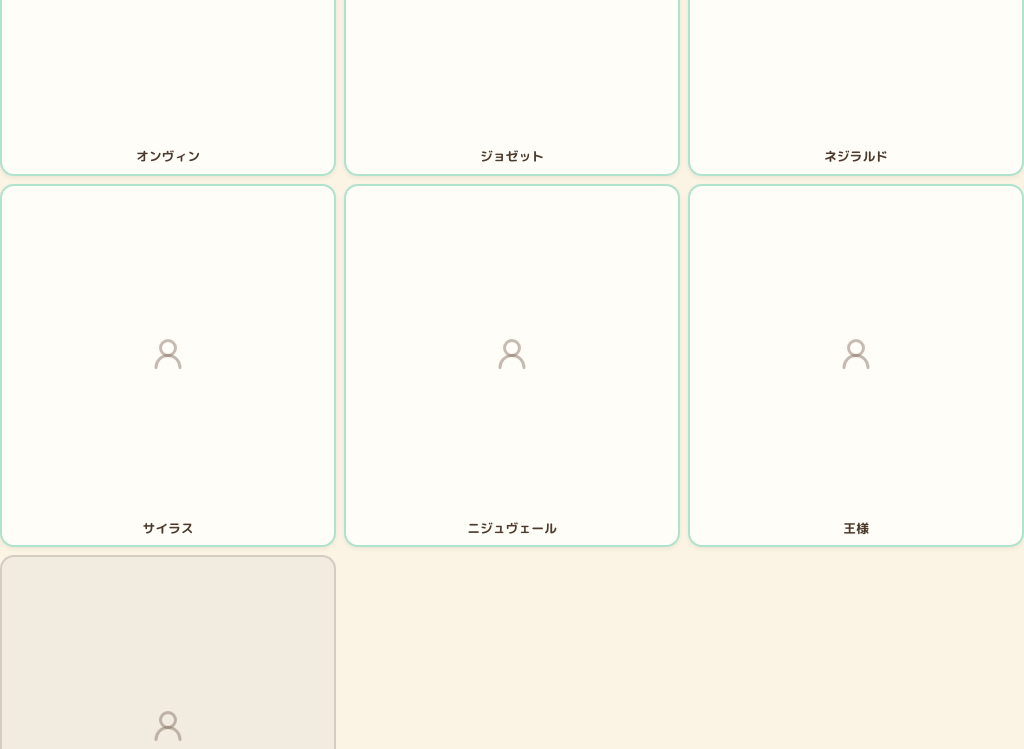
it: なかまの ずかん: 画面 › ひとくちが空のキャラクター(王様)は、「ことばの ひとくち」の欄を出さない
The image size is (1024, 749).
(page scrolled)
Click the button with class "nakama-card" showing "王様" at (856,366), box top-left (688, 184), bottom-right (1023, 548)
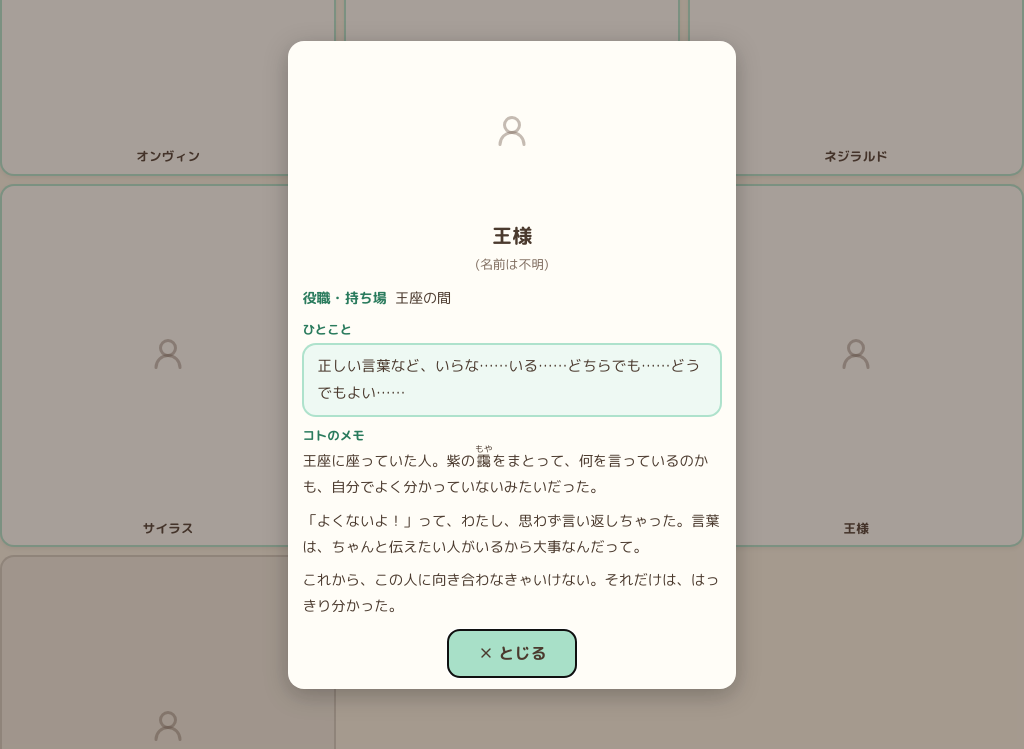
Now the heading with class "nakama-name" reads "王様 (名前は不明)", box top-left (475, 221), bottom-right (549, 273)
